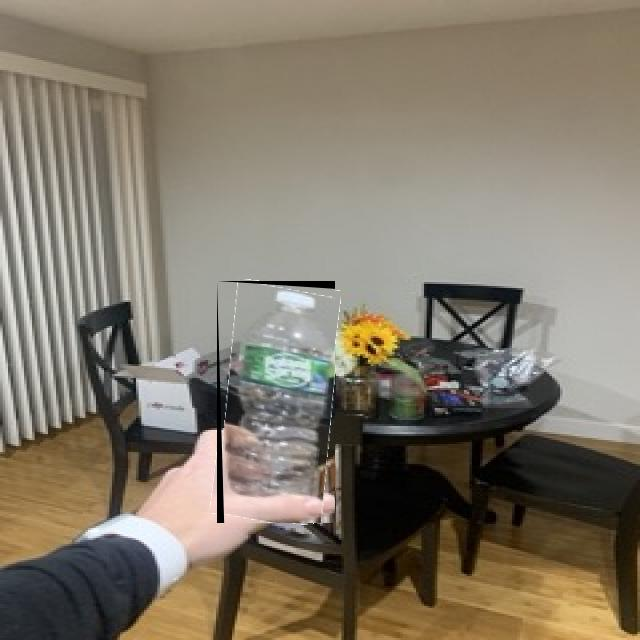water_bottle: (217, 281, 335, 523)
